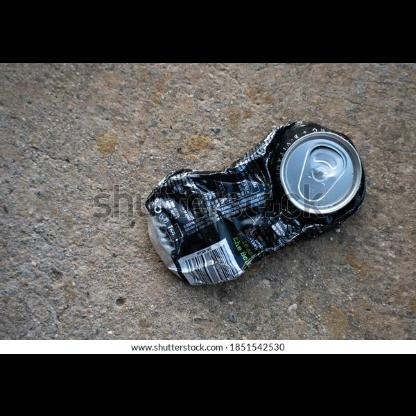Dent_Can: (146, 157, 294, 278)
Tin_Can: (128, 106, 368, 302)
